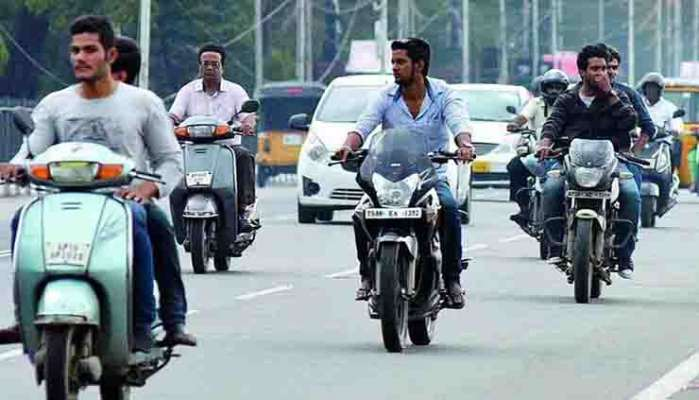NumberPlate: (46, 237, 91, 269), (365, 206, 422, 220), (566, 189, 613, 200), (185, 171, 212, 189)
no-helmet: (66, 15, 118, 87), (391, 38, 430, 94), (573, 48, 610, 92), (197, 48, 224, 89)
vehicle: (16, 149, 134, 400), (358, 135, 444, 352), (173, 119, 238, 278), (562, 140, 620, 310)
